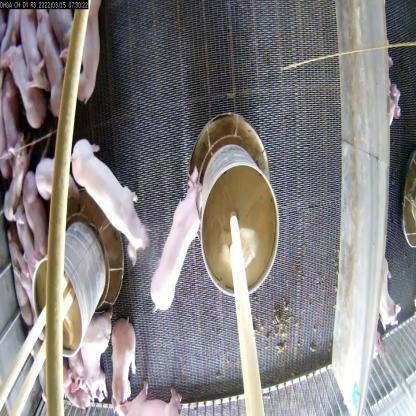Pig: (56, 122, 142, 272), (146, 170, 202, 323), (2, 33, 51, 168), (33, 11, 67, 155), (75, 316, 116, 415), (100, 319, 132, 398), (27, 180, 51, 271), (117, 386, 172, 415)
